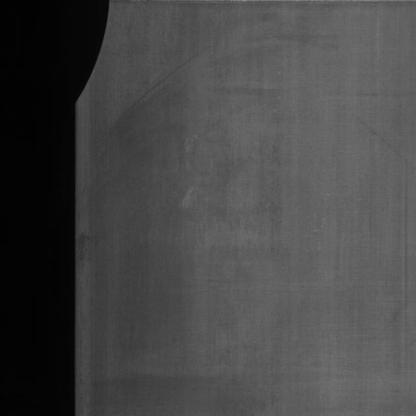crescent_gap: (69, 0, 118, 114)
